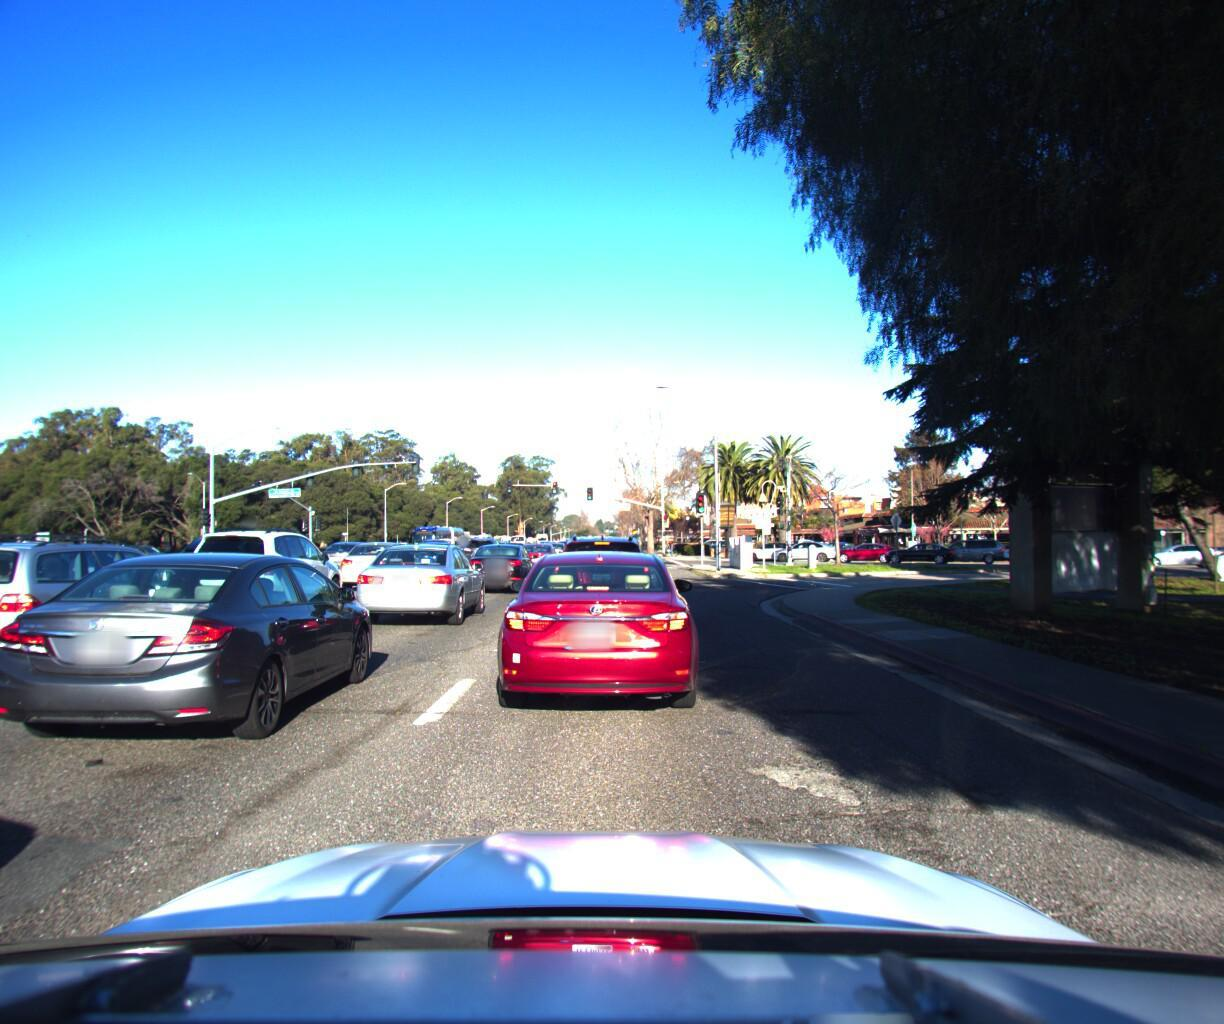bicycle: (663, 529, 680, 548)
car: (476, 537, 708, 727), (184, 523, 354, 616), (353, 536, 491, 627), (551, 524, 658, 630), (336, 526, 431, 584), (465, 528, 540, 587), (310, 520, 390, 571), (1126, 531, 1221, 556), (926, 527, 1004, 553), (521, 531, 566, 568), (767, 529, 840, 552), (881, 530, 952, 552), (829, 531, 901, 552), (540, 532, 574, 557)
